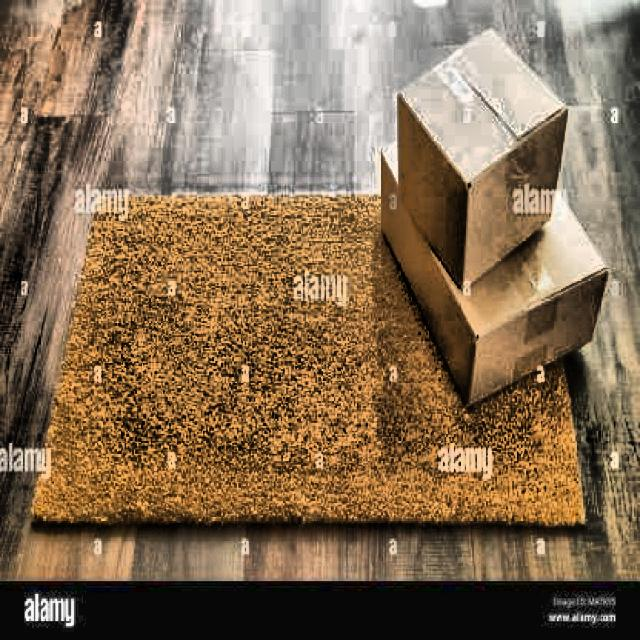Cardbox: (358, 111, 612, 398), (389, 18, 565, 292)
